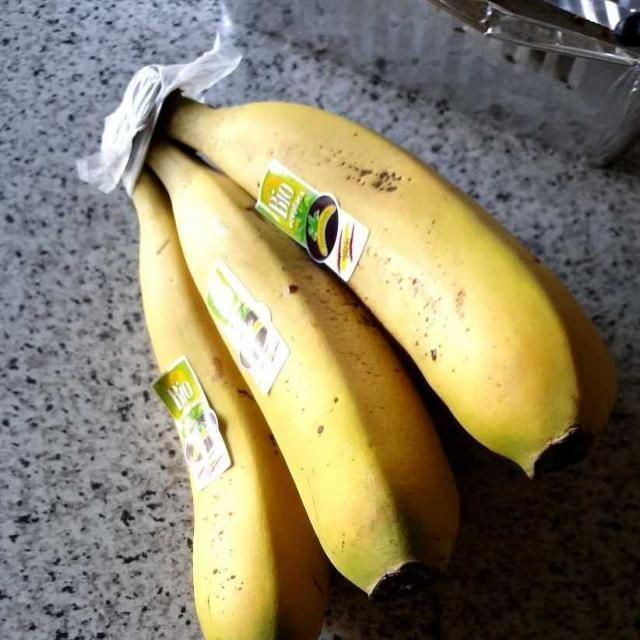banana: (115, 99, 605, 639)
